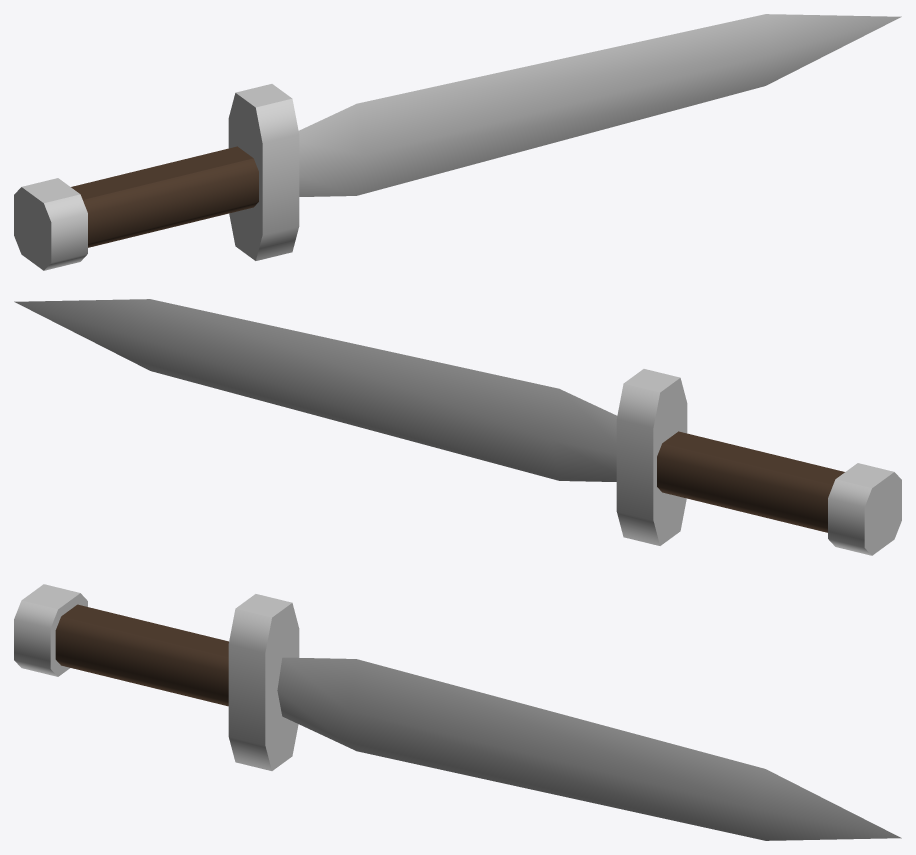
File: gladius.obj
3 renders of one model, top to bottom at view 1: azimuth 30°, elevation 25°; view 2: azimuth 150°, elevation 25°; view 3: azimuth 330°, elevation 25°, orthographic.
Visible parts, largest first — view 1: lenticular_blade, grip, guard, pommel; view 2: lenticular_blade, grip, guard, pommel; view 3: lenticular_blade, grip, guard, pommel.
Part boxes in pixels (x1,y1,x2,y2): lenticular_blade: [298, 14, 901, 196]; grip: [71, 146, 258, 247]; guard: [228, 84, 299, 260]; pommel: [14, 178, 87, 270]; lenticular_blade: [14, 299, 617, 481]; grip: [657, 431, 844, 532]; guard: [616, 369, 687, 545]; pommel: [828, 463, 901, 555]; lenticular_blade: [277, 657, 901, 840]; grip: [55, 604, 228, 706]; guard: [228, 594, 299, 770]; pommel: [14, 584, 87, 676].
Bounding box in the file's own units: 0.592 × 0.1 × 0.044.
